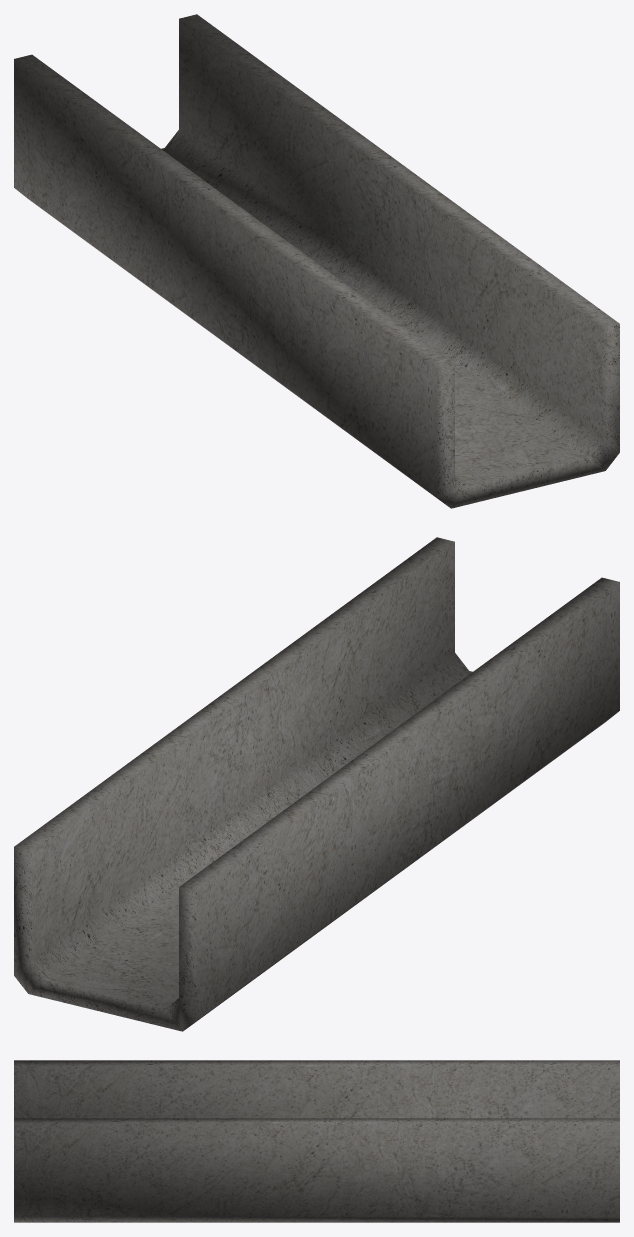
File: concrete_pipe_u.dae
The picture shows the model from 3 angles, top to bottom: view 1: azimuth 30°, elevation 25°; view 2: azimuth 150°, elevation 25°; view 3: azimuth 270°, elevation 25°; orthographic projection. The views are drawn at different scales.
Parts seen in each view (by area): view 1: U; view 2: U; view 3: U.
Boxes of the visible parts, x1,y1,x2,y2 form: U: (14, 14, 619, 508); U: (14, 537, 619, 1031); U: (14, 1060, 619, 1222).
Bounding box in the file's own units: 0.4453 × 1.78 × 0.334.
1 material, 1 textured.
